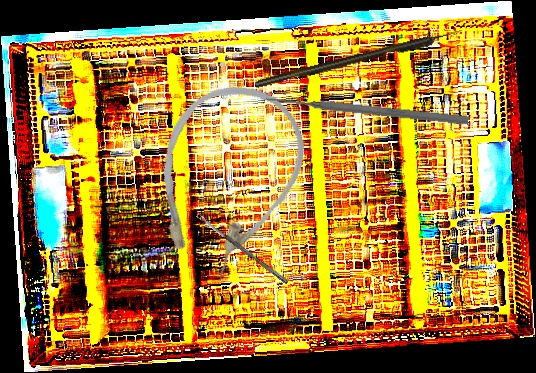Cannula: (128, 66, 322, 293)
Hook Surgical: (254, 27, 464, 90)
Pusher: (264, 92, 470, 127)
Surgical Spoon: (195, 212, 290, 285)
